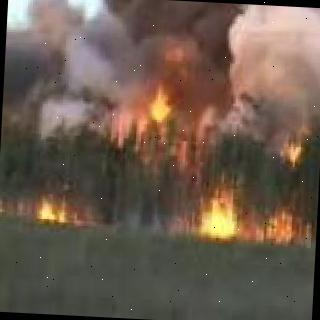fire: (247, 122, 320, 242), (148, 73, 181, 145), (204, 178, 236, 240), (40, 194, 80, 226)
